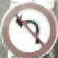Don't turn left: (3, 3, 56, 55)
